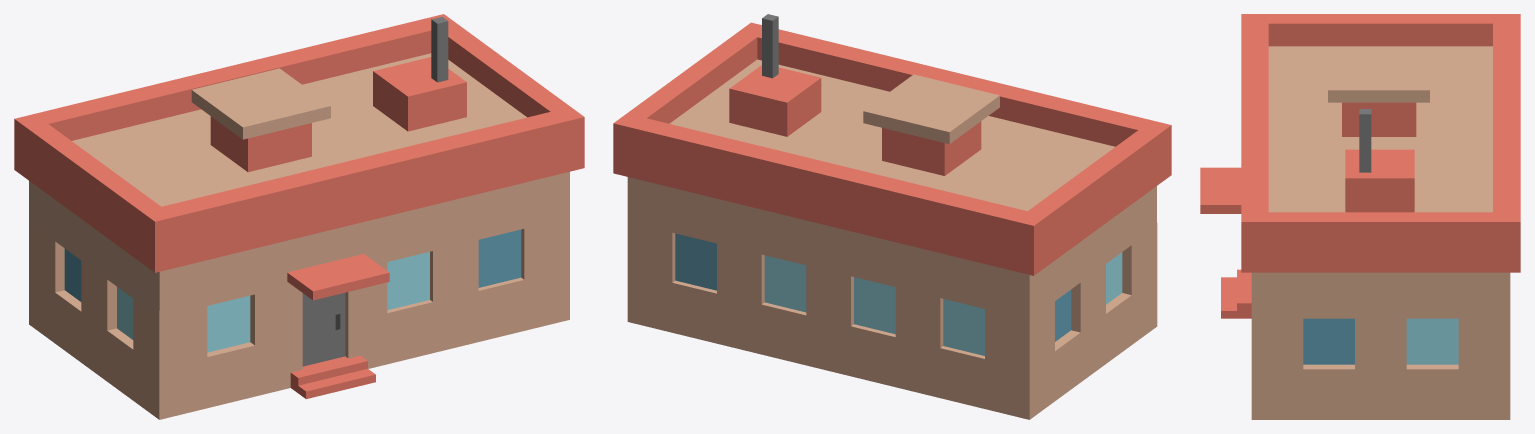
File: House 2.1.fbx
3 renders of one model, left to right at view 1: azimuth 30°, elevation 25°; view 2: azimuth 150°, elevation 25°; view 3: azimuth 270°, elevation 25°, orthographic. The views are drawn at different scales.
Visible parts, largest first — view 1: House_Type2_1; view 2: House_Type2_1; view 3: House_Type2_1.
Part boxes in pixels (x1,y1,x2,y2): House_Type2_1: [14, 14, 584, 419]; House_Type2_1: [613, 14, 1171, 419]; House_Type2_1: [1200, 14, 1520, 419].
Size of the model in its own units: 879 by 538 by 572.
